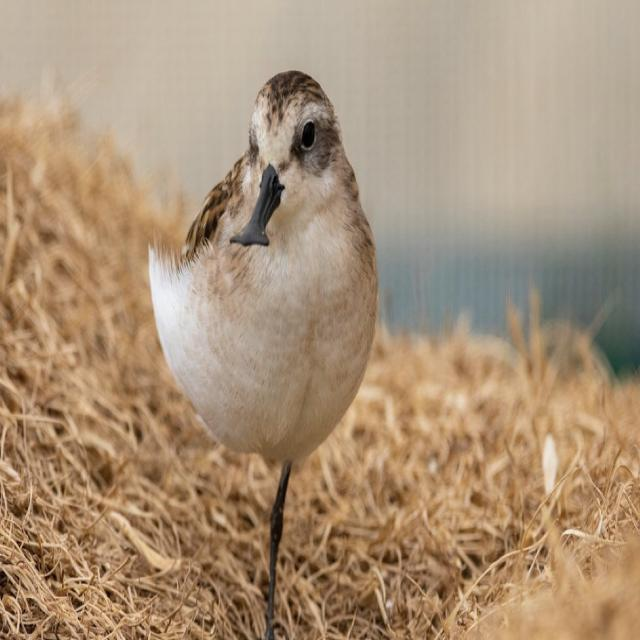sandpiper: (150, 70, 378, 639)
